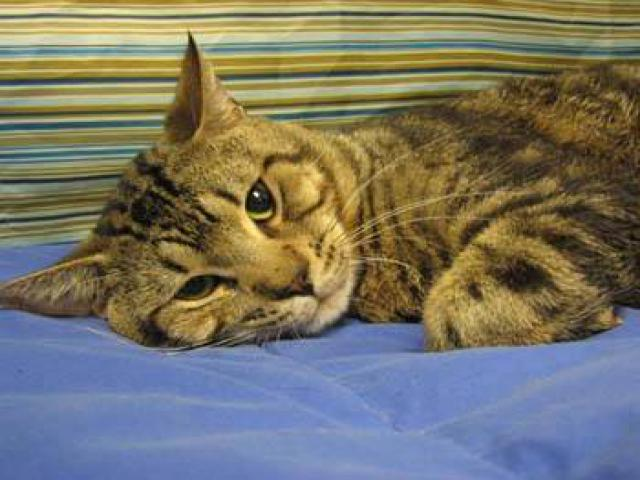cat: (13, 39, 634, 353)
